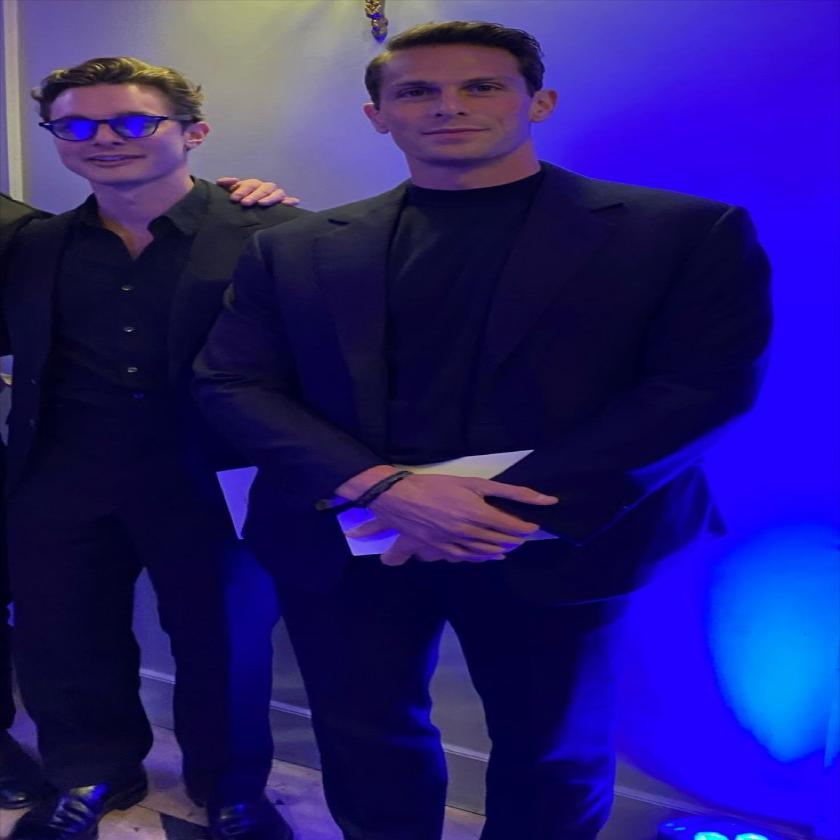Sin_casco: (358, 15, 564, 185), (25, 55, 219, 206)
